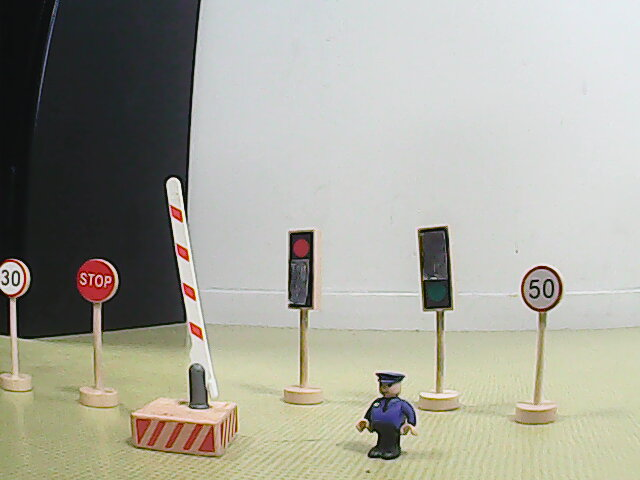barrier_up: (129, 176, 242, 458)
green_traffic_sign: (417, 225, 452, 310)
person: (353, 370, 422, 462)
red_traffic_sign: (286, 230, 324, 310)
sign_30: (1, 256, 32, 301)
sign_50: (518, 265, 564, 313)
stop_sign: (75, 258, 121, 303)
